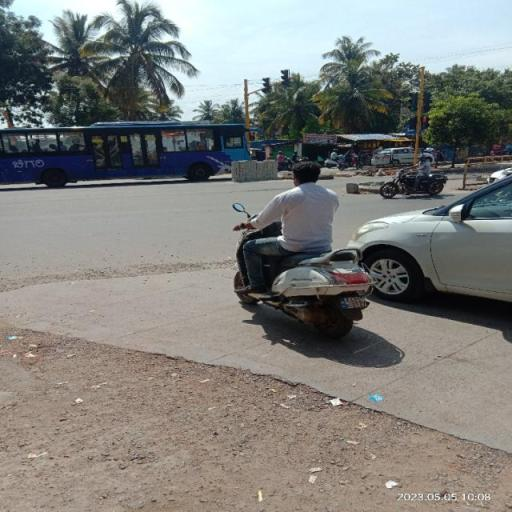bike: (222, 158, 376, 340)
withouthelmet: (293, 161, 320, 183)
